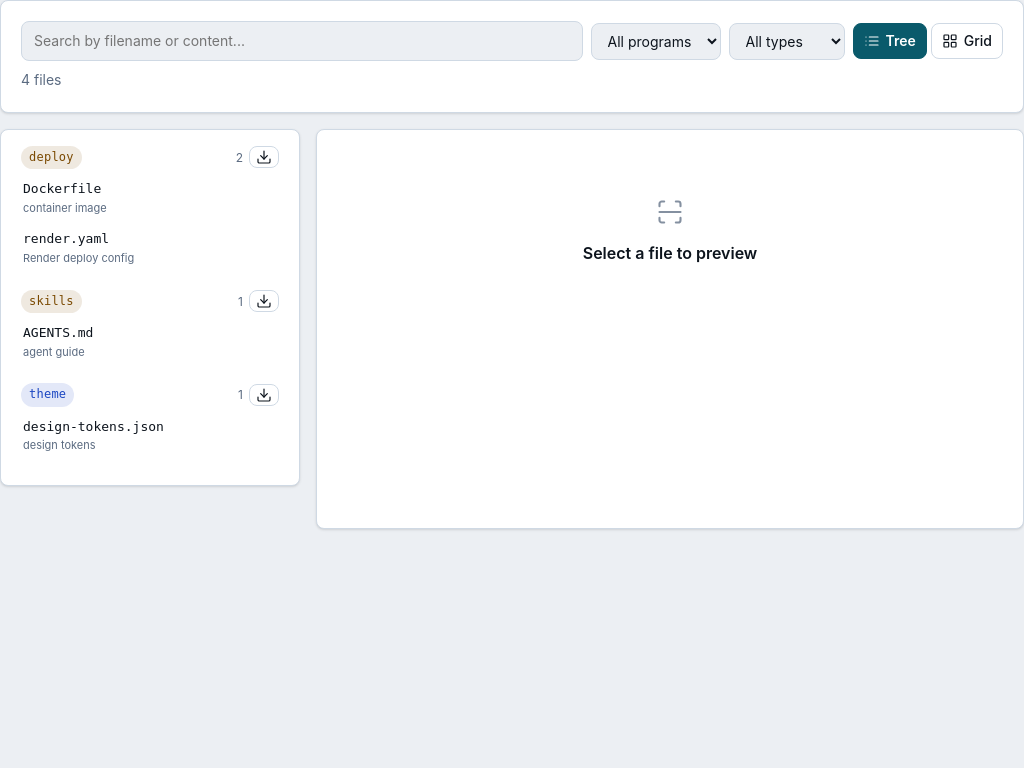
Test: ArtifactExplorer — search › matches by filename substring, case-insensitively
The width and height of the screenshot is (1024, 768).
Step 1. Type "DOCKERFILE" into the field named "Search artifacts" → (302, 41), box [21,21,583,61]
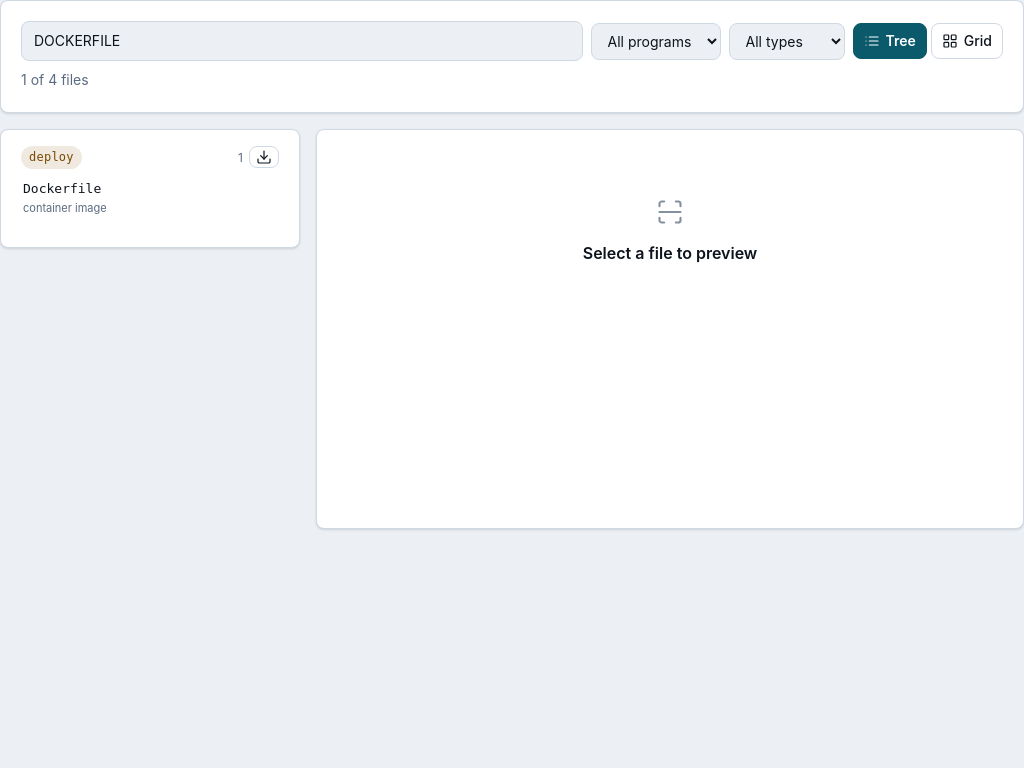
Expected: the button titled "Dockerfile" is shown, [13,173,287,223]
Now the text "1 of 4 files" is shown, box [21,71,89,88]
Now the button titled "render.yaml" is gone
